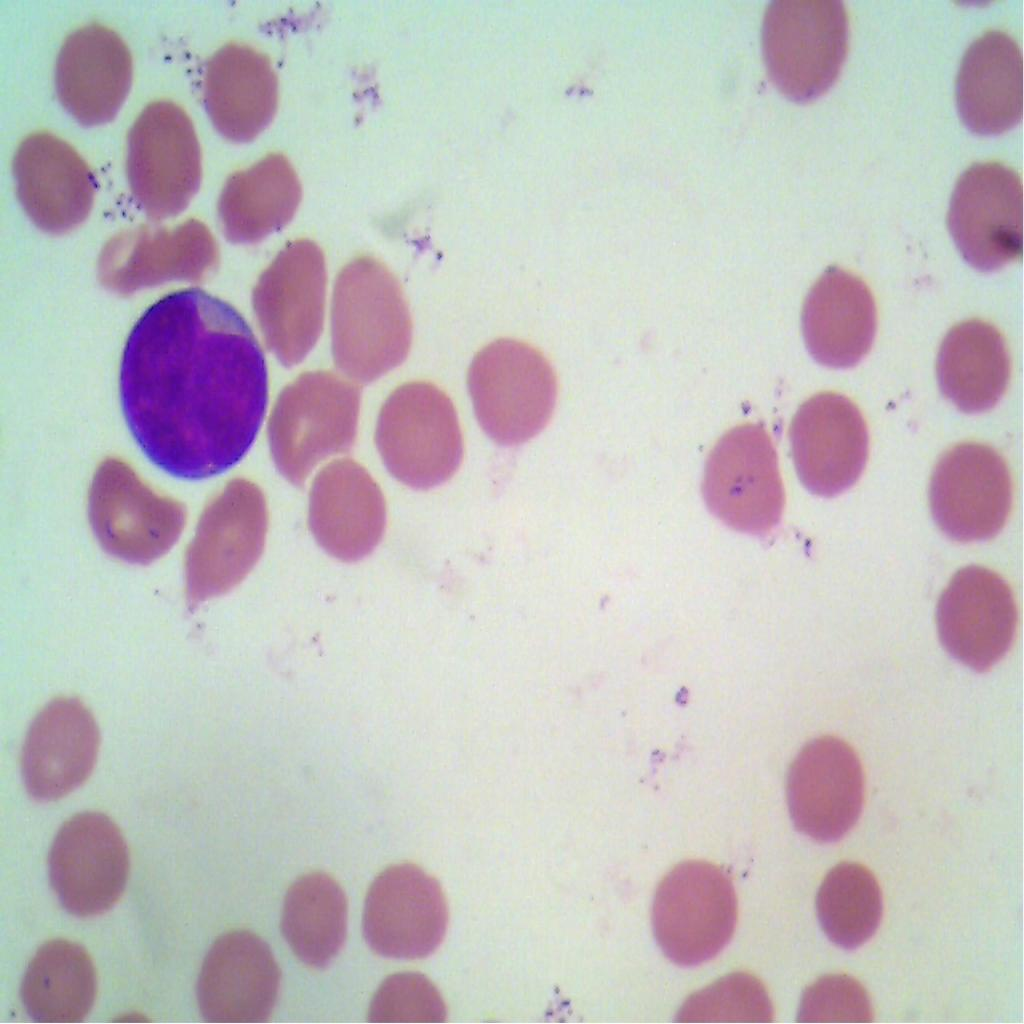Eritrosit: (464, 331, 569, 467), (262, 349, 364, 481), (744, 0, 870, 105), (178, 465, 270, 605), (780, 381, 878, 512), (81, 442, 186, 564), (1, 128, 106, 249), (693, 414, 790, 544), (924, 562, 1023, 684), (328, 247, 418, 381), (786, 715, 875, 850), (644, 851, 749, 964), (919, 434, 1019, 551), (38, 18, 138, 135), (923, 299, 1022, 417), (788, 257, 884, 376), (14, 687, 108, 807), (938, 145, 1024, 275), (96, 212, 219, 301), (48, 807, 134, 927), (298, 457, 386, 574), (933, 24, 1023, 138), (198, 37, 289, 145), (358, 856, 450, 962), (376, 372, 463, 484), (214, 150, 310, 251), (814, 850, 899, 964), (192, 917, 282, 1023), (254, 231, 324, 367), (126, 92, 199, 212), (18, 925, 101, 1023), (270, 861, 346, 964)
Limfoblast: (116, 280, 269, 492)
